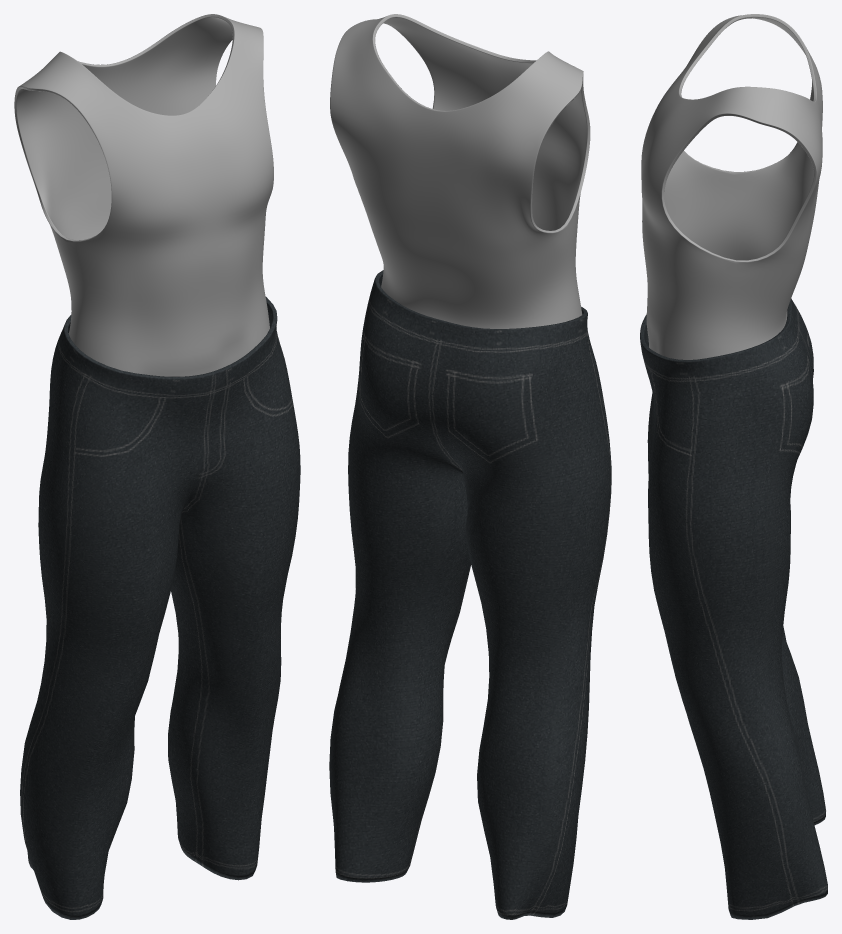
The model's file is Dress.fbx.
The picture shows the model from 3 angles, left to right: view 1: azimuth 30°, elevation 25°; view 2: azimuth 150°, elevation 25°; view 3: azimuth 270°, elevation 25°; orthographic projection. The views are drawn at different scales.
Parts seen in each view (by area): view 1: Pant, Shirt; view 2: Pant, Shirt; view 3: Pant, Shirt.
Boxes of the visible parts, <box> form: Pant: <box>20,297,300,919</box>; Shirt: <box>14,14,273,376</box>; Pant: <box>329,270,611,919</box>; Shirt: <box>330,14,590,328</box>; Pant: <box>640,298,827,919</box>; Shirt: <box>641,14,822,359</box>.
Size of the model in its own units: 41.79 by 141 by 29.09.
